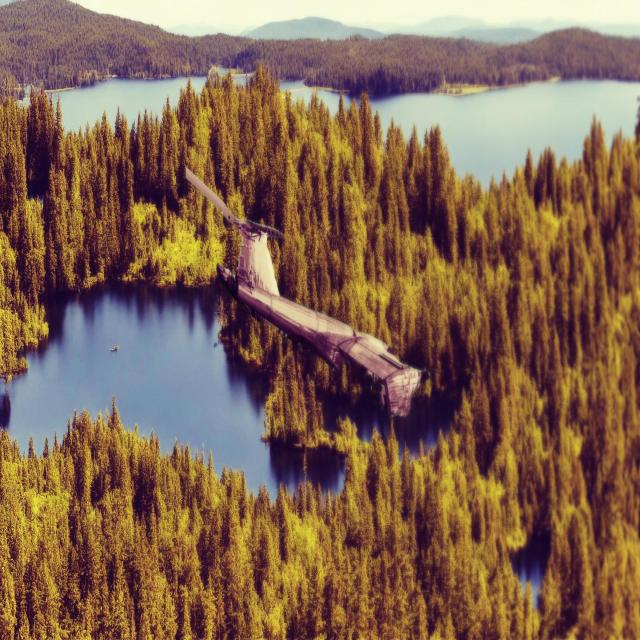airplane: (184, 164, 428, 419)
